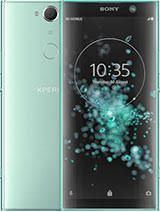sony: (1, 1, 160, 210)
